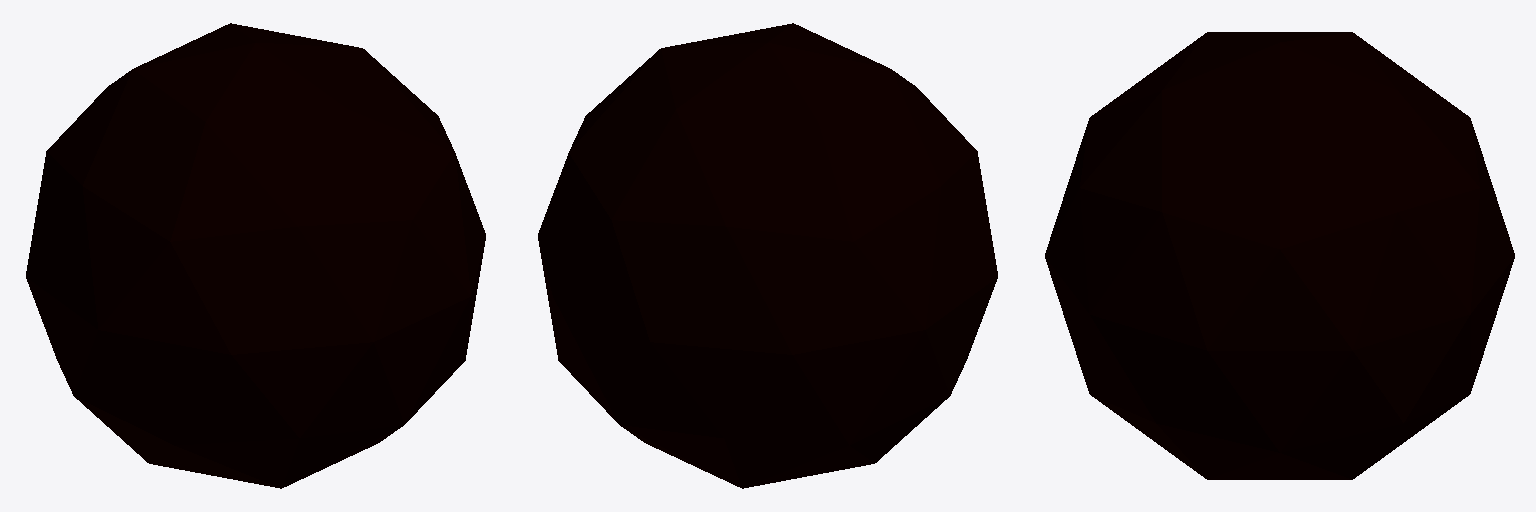
The model's file is hot_ball.obj.
The picture shows the model from 3 angles: view 1: azimuth 30°, elevation 25°; view 2: azimuth 150°, elevation 25°; view 3: azimuth 270°, elevation 25°; orthographic projection.
Parts seen in each view (by area): view 1: Icosphere; view 2: Icosphere; view 3: Icosphere.
Boxes of the visible parts, x1,y1,x2,y2 form: Icosphere: [26, 23, 485, 488]; Icosphere: [538, 23, 997, 488]; Icosphere: [1045, 32, 1514, 479].
Bounding box in the file's own units: 1.9 × 2 × 2.